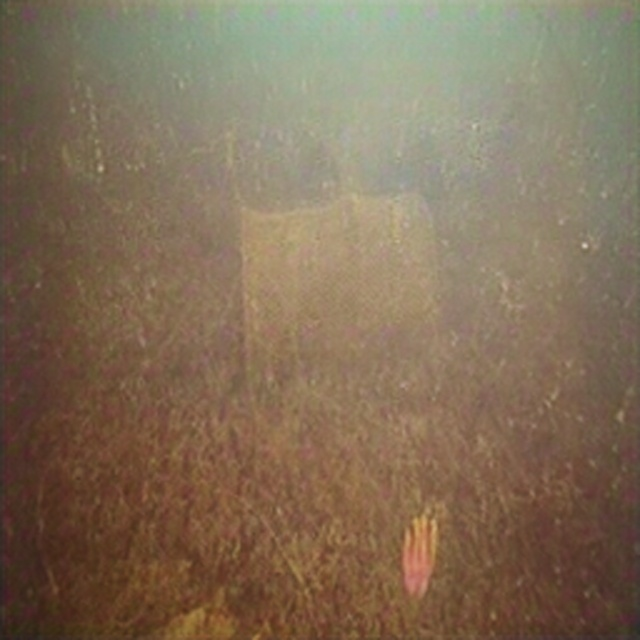mine: (239, 184, 438, 400)
